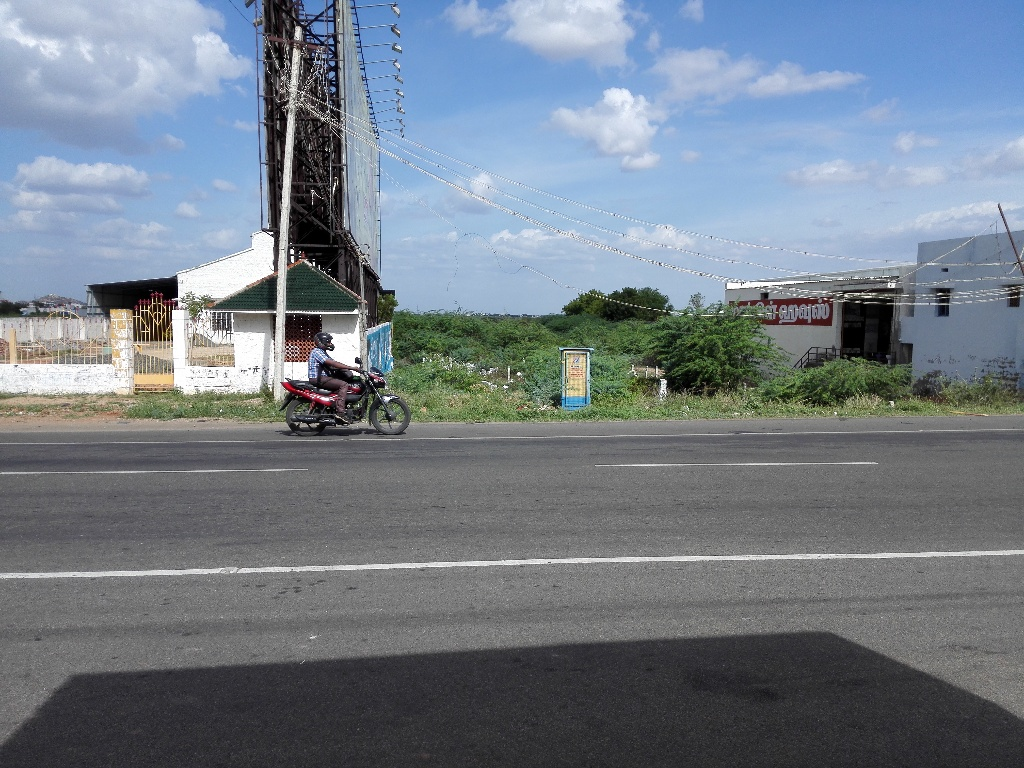biker: (265, 295, 433, 452)
helmet: (310, 325, 340, 360)
